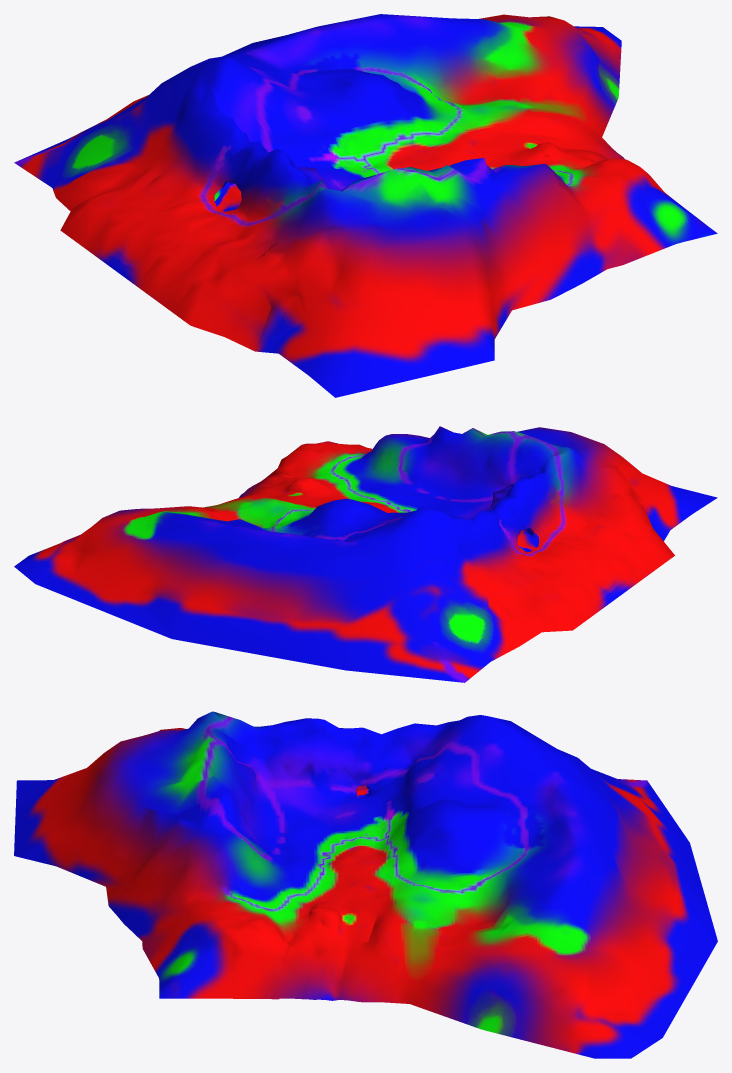
Rendered from IslandTerrainShape.dae.
3 views of the same model, one above another, from view 1: azimuth 30°, elevation 25°; view 2: azimuth 150°, elevation 25°; view 3: azimuth 270°, elevation 25° (orthographic). The views are drawn at different scales.
Visible parts, largest first — view 1: IslandTerrain; view 2: IslandTerrain; view 3: IslandTerrain.
Part boxes in pixels (x1,y1,x2,y2): IslandTerrain: [14, 14, 717, 397]; IslandTerrain: [14, 426, 717, 682]; IslandTerrain: [14, 711, 717, 1058].
Bounding box in the file's own units: 1180 × 256 × 1172.
